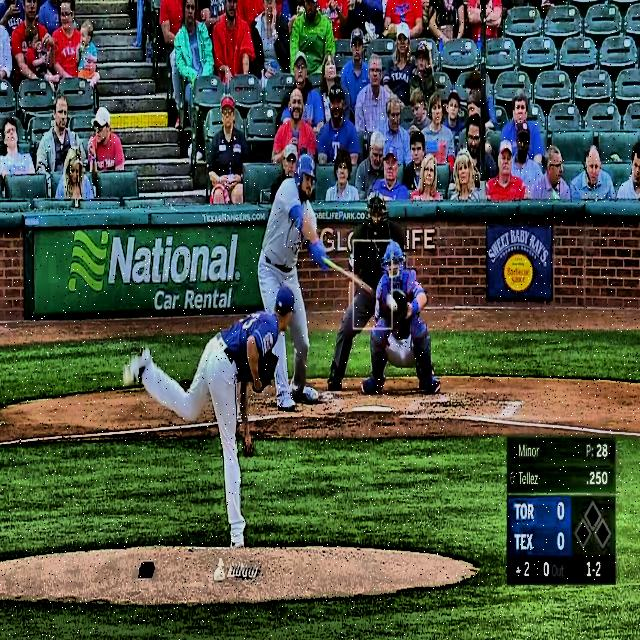baseball: (386, 294, 398, 312)
